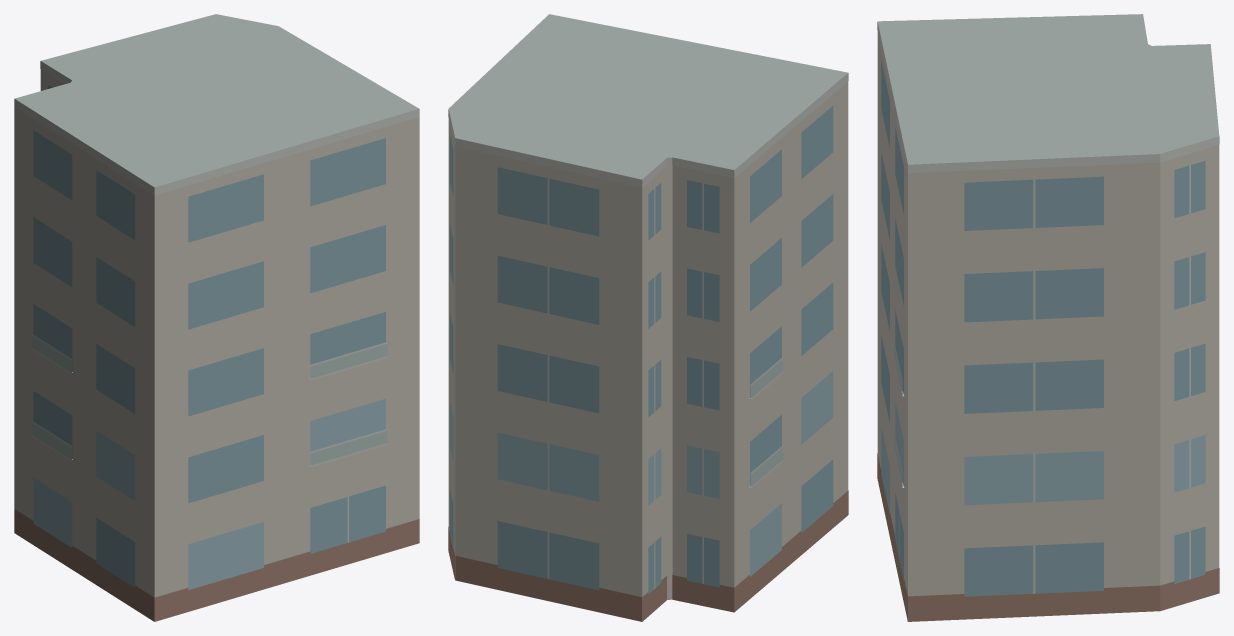
The model's file is survey-upis-32655342.glb.
The picture shows the model from 3 angles, left to right: view 1: azimuth 30°, elevation 25°; view 2: azimuth 150°, elevation 25°; view 3: azimuth 270°, elevation 25°; orthographic projection. The views are drawn at different scales.
Visible parts, largest first — view 1: survey-upis-32655342.tmp; view 2: survey-upis-32655342.tmp; view 3: survey-upis-32655342.tmp.
Boxes of the visible parts, x1=… form: survey-upis-32655342.tmp: x1=14, y1=14, x2=419, y2=621; survey-upis-32655342.tmp: x1=448, y1=14, x2=848, y2=621; survey-upis-32655342.tmp: x1=877, y1=14, x2=1219, y2=621.
Size of the model in its own units: 9.27 by 13.1 by 8.89.
